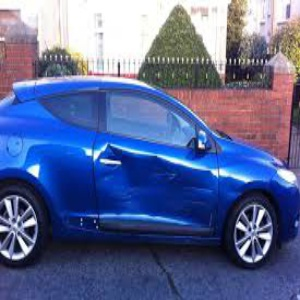bumper_scratch: (26, 100, 206, 162)
